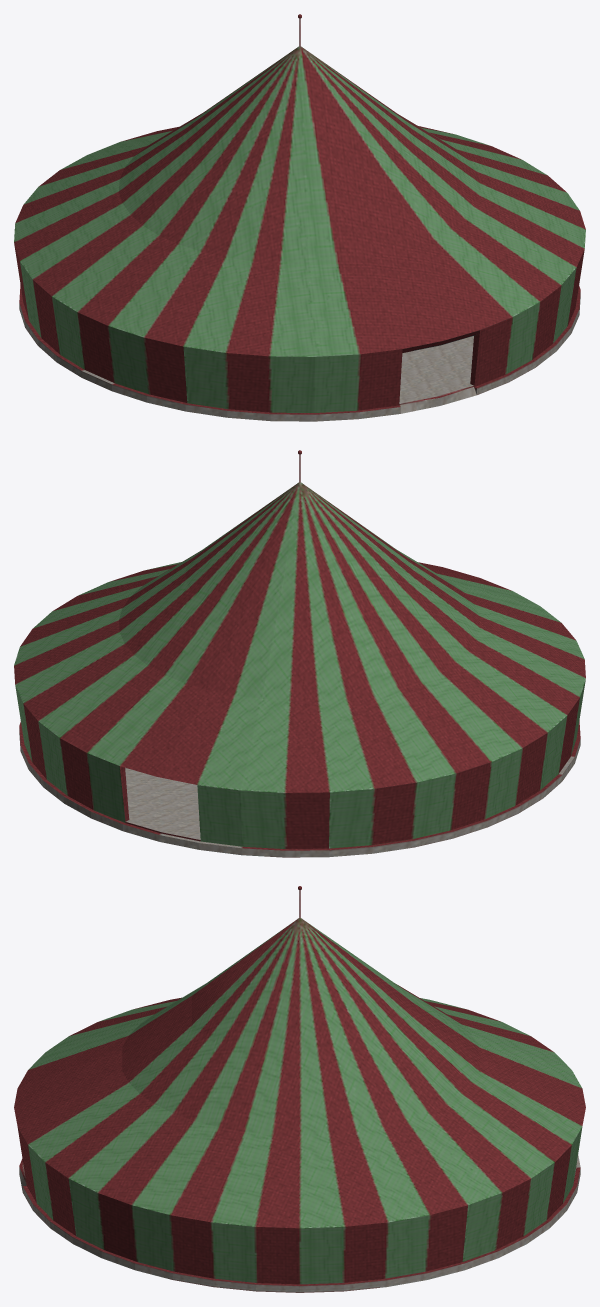
The picture shows the model from 3 angles, top to bottom: view 1: azimuth 30°, elevation 25°; view 2: azimuth 150°, elevation 25°; view 3: azimuth 270°, elevation 25°; orthographic projection.
Visible parts, largest first — view 1: Circus_Tent; view 2: Circus_Tent; view 3: Circus_Tent.
Boxes of the visible parts, left/top/right/bottom form: Circus_Tent: left=14, top=14, right=585, bottom=421; Circus_Tent: left=14, top=450, right=585, bottom=857; Circus_Tent: left=14, top=886, right=585, bottom=1292.
Bounding box in the file's own units: 59.4 × 33.02 × 59.4.
27 materials, 2 textured.
